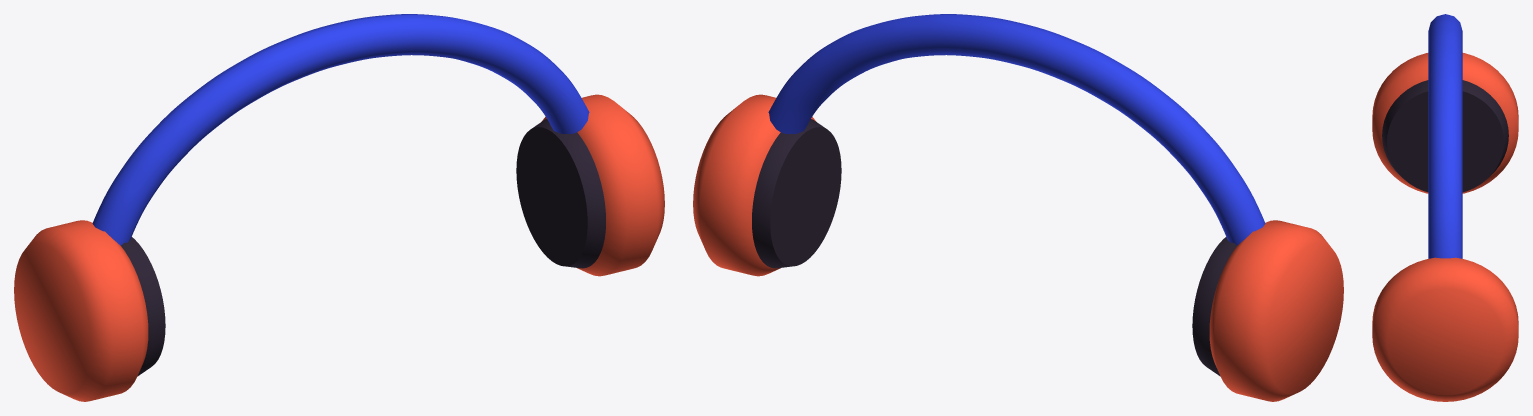
File: headphones.glb
3 renders of one model, left to right at view 1: azimuth 30°, elevation 25°; view 2: azimuth 150°, elevation 25°; view 3: azimuth 270°, elevation 25°, orthographic. The views are drawn at different scales.
Visible parts, largest first — view 1: sluchatka_oblouk, sluchatka_muslicka_-1, sluchatka_polstarek_1, sluchatka_muslicka_1, sluchatka_polstarek_-1; view 2: sluchatka_oblouk, sluchatka_muslicka_-1, sluchatka_polstarek_1, sluchatka_muslicka_1, sluchatka_polstarek_-1; view 3: sluchatka_muslicka_1, sluchatka_oblouk, sluchatka_polstarek_-1, sluchatka_muslicka_-1.
Boxes of the visible parts, bbox=[...] form: sluchatka_oblouk: bbox=[92, 14, 589, 245]; sluchatka_muslicka_-1: bbox=[14, 220, 148, 401]; sluchatka_polstarek_1: bbox=[516, 119, 605, 268]; sluchatka_muslicka_1: bbox=[541, 94, 664, 276]; sluchatka_polstarek_-1: bbox=[121, 237, 165, 376]; sluchatka_oblouk: bbox=[768, 14, 1265, 245]; sluchatka_muslicka_-1: bbox=[1209, 220, 1343, 401]; sluchatka_polstarek_1: bbox=[752, 119, 841, 268]; sluchatka_muslicka_1: bbox=[693, 94, 816, 276]; sluchatka_polstarek_-1: bbox=[1192, 237, 1236, 376]; sluchatka_muslicka_1: bbox=[1372, 257, 1518, 401]; sluchatka_oblouk: bbox=[1428, 14, 1462, 258]; sluchatka_polstarek_-1: bbox=[1382, 80, 1508, 192]; sluchatka_muslicka_-1: bbox=[1372, 53, 1518, 193].
Size of the model in its own units: 1.12 by 0.565 by 0.3.
